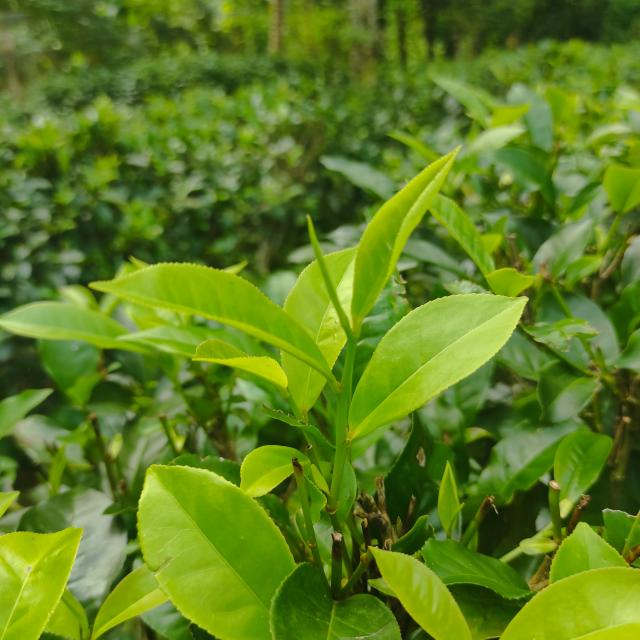unopened_leaf: (300, 204, 356, 343), (439, 497, 470, 542)
